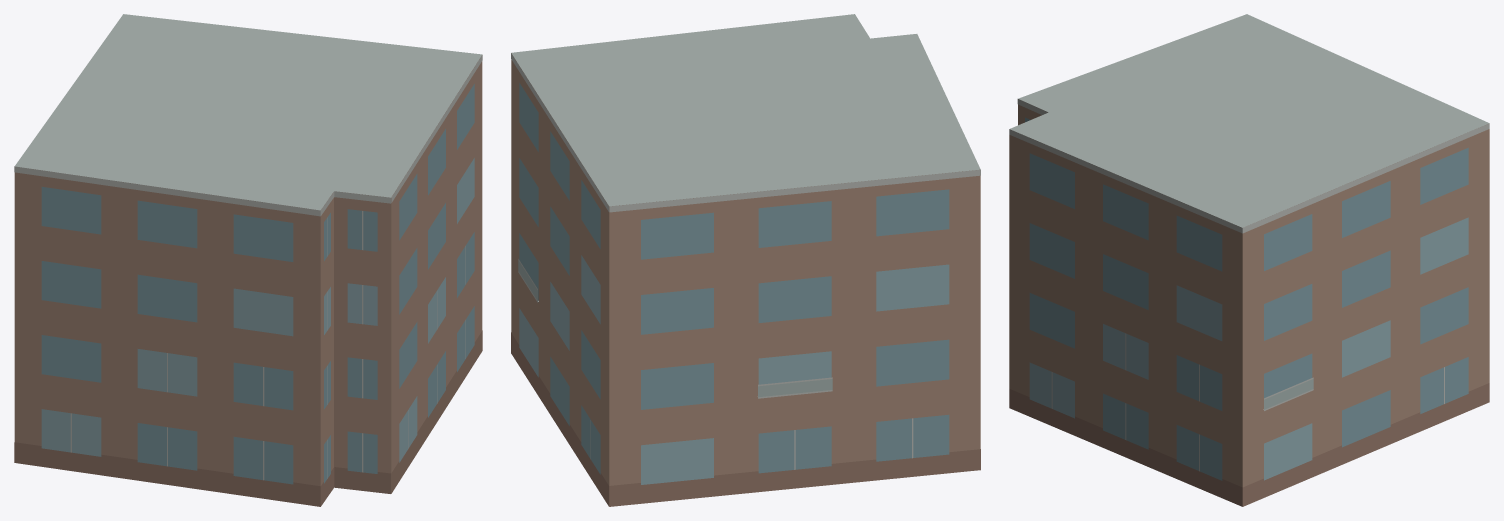
File: survey-upis-32770732.glb
3 renders of one model, left to right at view 1: azimuth 30°, elevation 25°; view 2: azimuth 150°, elevation 25°; view 3: azimuth 270°, elevation 25°, orthographic. The views are drawn at different scales.
Parts seen in each view (by area): view 1: survey-upis-32770732.tmp; view 2: survey-upis-32770732.tmp; view 3: survey-upis-32770732.tmp.
Boxes of the visible parts, bbox=[...] form: survey-upis-32770732.tmp: bbox=[14, 14, 482, 506]; survey-upis-32770732.tmp: bbox=[511, 14, 980, 506]; survey-upis-32770732.tmp: bbox=[1009, 14, 1489, 506].
Bounding box in the file's own units: 19.9 × 12.1 × 18.88.
